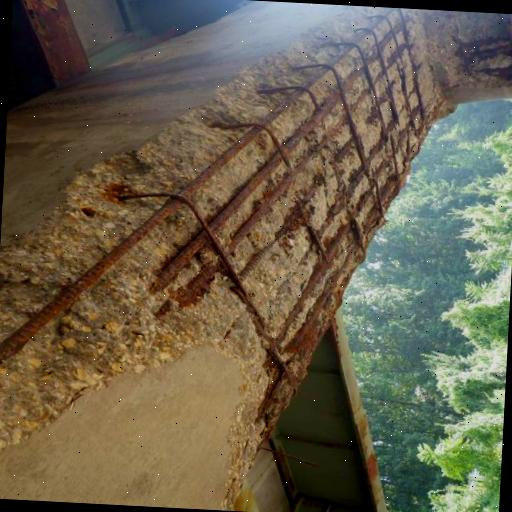spalling: (0, 5, 446, 510)
